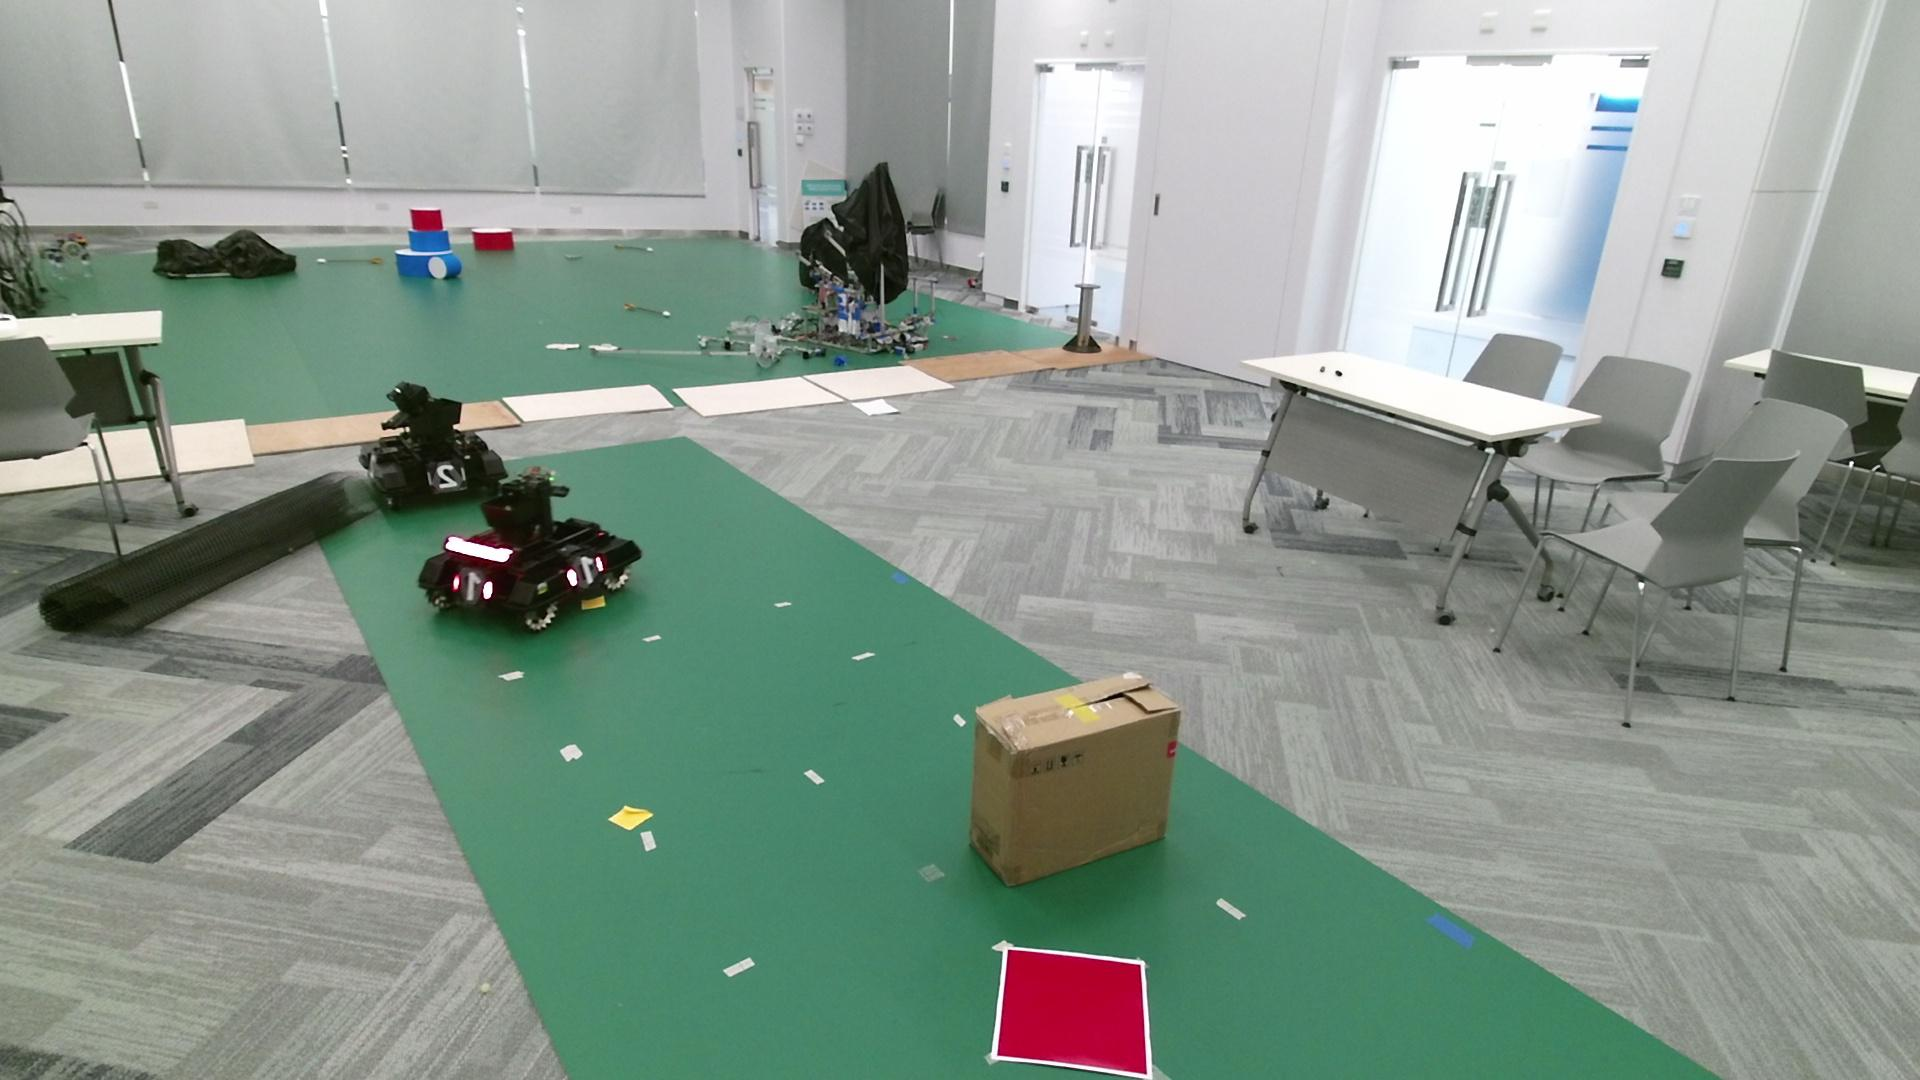robot: (417, 463, 642, 633), (357, 380, 509, 509)
